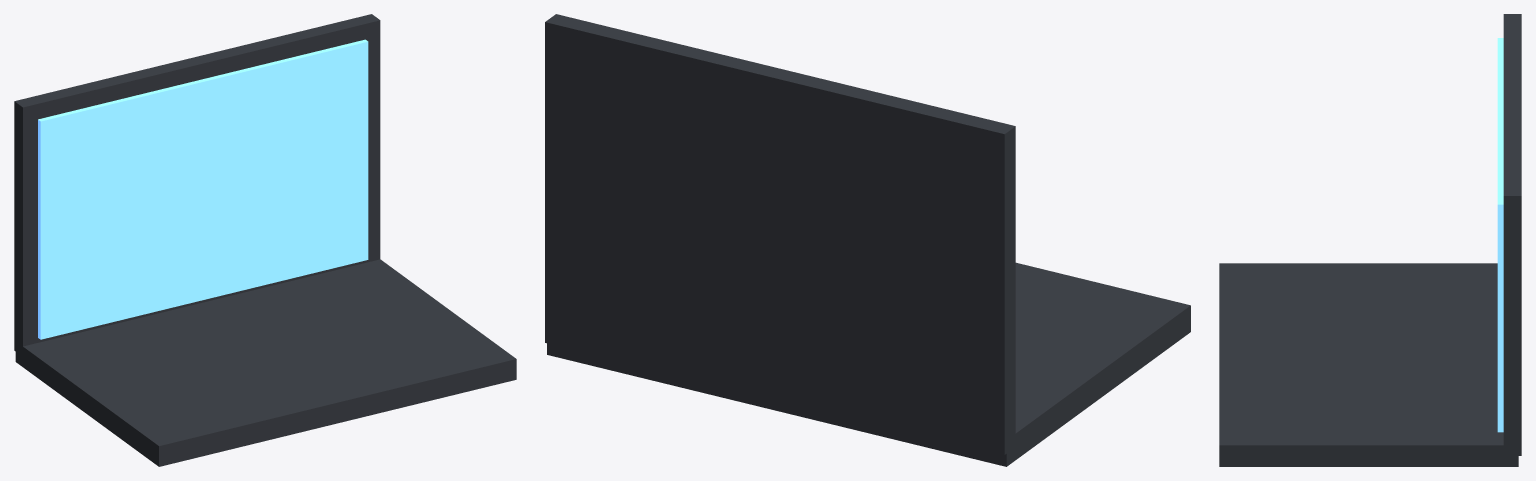
File: laptop.glb
The picture shows the model from 3 angles, left to right: view 1: azimuth 30°, elevation 25°; view 2: azimuth 150°, elevation 25°; view 3: azimuth 270°, elevation 25°; orthographic projection. The views are drawn at different scales.
Parts seen in each view (by area): view 1: laptop-3b3f46, laptop-5b8fd6; view 2: laptop-3b3f46; view 3: laptop-3b3f46, laptop-5b8fd6.
Boxes of the visible parts, x1,y1,x2,y2 form: laptop-3b3f46: (14,14,516,466); laptop-5b8fd6: (38,39,368,339); laptop-3b3f46: (545,14,1190,466); laptop-3b3f46: (1219,14,1521,466); laptop-5b8fd6: (1497,38,1503,432).
Bounding box in the file's own units: 0.36 × 0.25 × 0.2525.
